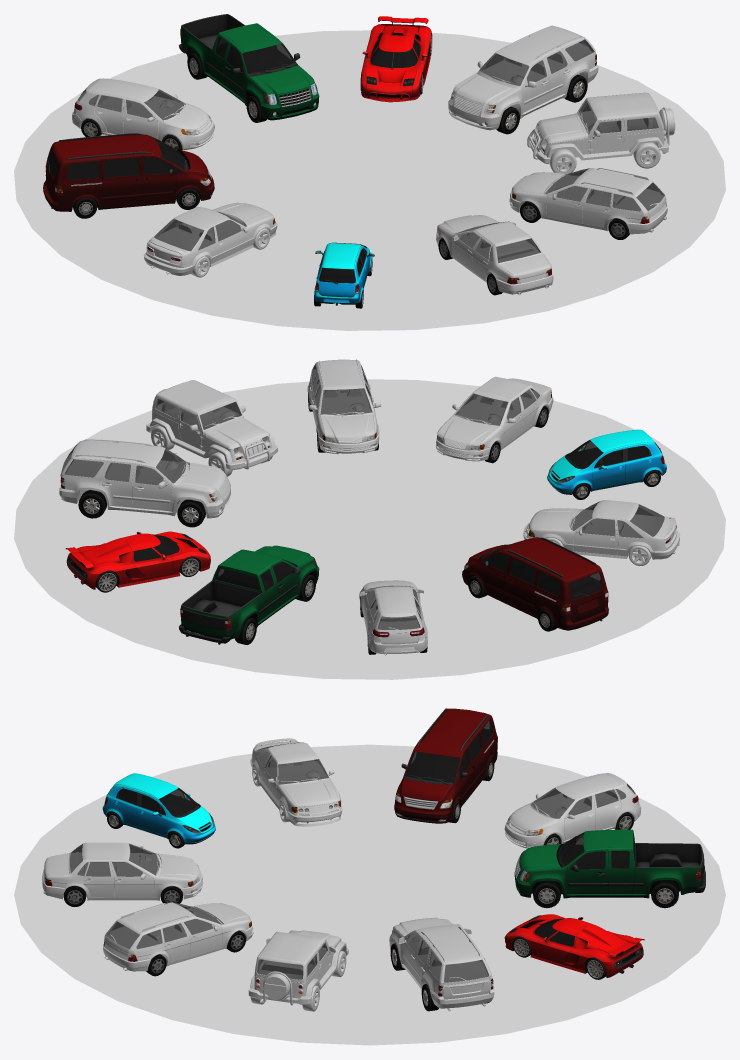
File: fab.fbx
3 views of the same model, one above another, from view 1: azimuth 30°, elevation 25°; view 2: azimuth 150°, elevation 25°; view 3: azimuth 270°, elevation 25° (orthographic).
Parts seen in each view (by area): view 1: Cylinder001, minivan body, SUV Body, Pickup Body, Wagon Body, Offroad Body, Hatchback Body, Coupe Body, Sedan Body, Sport body, Compact Body, Wheel_G001 (+1 smaller); view 2: Cylinder001, SUV Body, minivan body, Pickup Body, Offroad Body, Coupe Body, Sedan Body, Wagon Body, Sport body, Compact Body, Hatchback Body, Wheel_E003 (+1 smaller); view 3: Cylinder001, Pickup Body, minivan body, Sedan Body, Wagon Body, SUV Body, Hatchback Body, Coupe Body, Offroad Body, Sport body, Compact Body, Wheel_E001 (+1 smaller).
Boxes of the visible parts, bbox=[...] form: Cylinder001: bbox=[14, 30, 725, 330]; minivan body: bbox=[43, 133, 214, 211]; SUV Body: bbox=[448, 25, 598, 130]; Pickup Body: bbox=[178, 14, 319, 120]; Wagon Body: bbox=[509, 168, 667, 234]; Offroad Body: bbox=[527, 92, 675, 163]; Hatchback Body: bbox=[72, 78, 214, 149]; Coupe Body: bbox=[143, 202, 277, 275]; Sedan Body: bbox=[436, 215, 553, 295]; Sport body: bbox=[361, 16, 431, 102]; Compact Body: bbox=[314, 242, 374, 305]; Wheel_G001: bbox=[633, 142, 660, 168]; Cylinder001: bbox=[14, 379, 725, 679]; SUV Body: bbox=[59, 439, 230, 518]; minivan body: bbox=[462, 537, 608, 630]; Pickup Body: bbox=[179, 545, 319, 644]; Offroad Body: bbox=[146, 380, 277, 470]; Coupe Body: bbox=[523, 500, 679, 559]; Sedan Body: bbox=[436, 376, 553, 461]; Wagon Body: bbox=[307, 359, 381, 453]; Sport body: bbox=[65, 531, 210, 589]; Compact Body: bbox=[547, 429, 666, 494]; Hatchback Body: bbox=[359, 580, 427, 655]; Wheel_E003: bbox=[78, 490, 106, 518]; Cylinder001: bbox=[14, 744, 725, 1045]; Pickup Body: bbox=[514, 829, 705, 898]; minivan body: bbox=[394, 708, 497, 823]; Sedan Body: bbox=[42, 842, 203, 900]; Wagon Body: bbox=[103, 902, 253, 971]; SUV Body: bbox=[389, 917, 494, 1011]; Hatchback Body: bbox=[504, 773, 641, 848]; Coupe Body: bbox=[250, 738, 342, 826]; Offroad Body: bbox=[248, 930, 348, 1005]; Sport body: bbox=[504, 914, 644, 977]; Compact Body: bbox=[102, 773, 215, 844]; Wheel_E001: bbox=[651, 880, 678, 908].
Bounding box in the file's own units: 21688 × 1986 × 21688.
